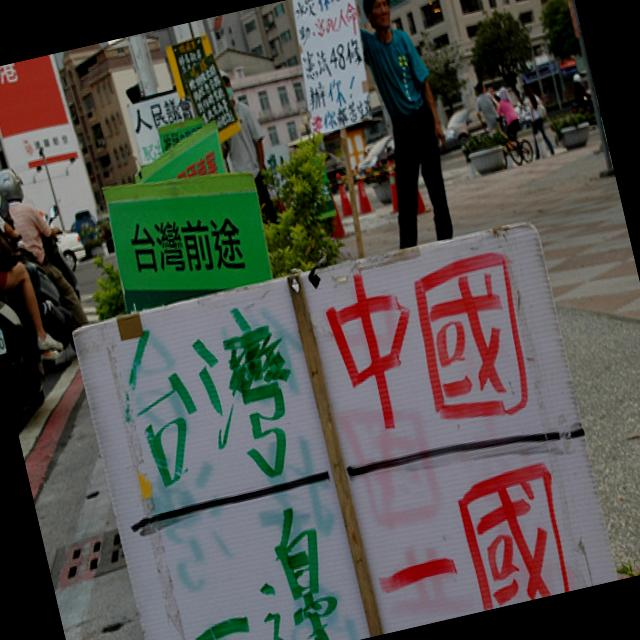Vehicle: (0, 263, 75, 431), (14, 238, 82, 360), (434, 104, 488, 154), (352, 134, 400, 170), (55, 227, 89, 273), (322, 148, 352, 194)
